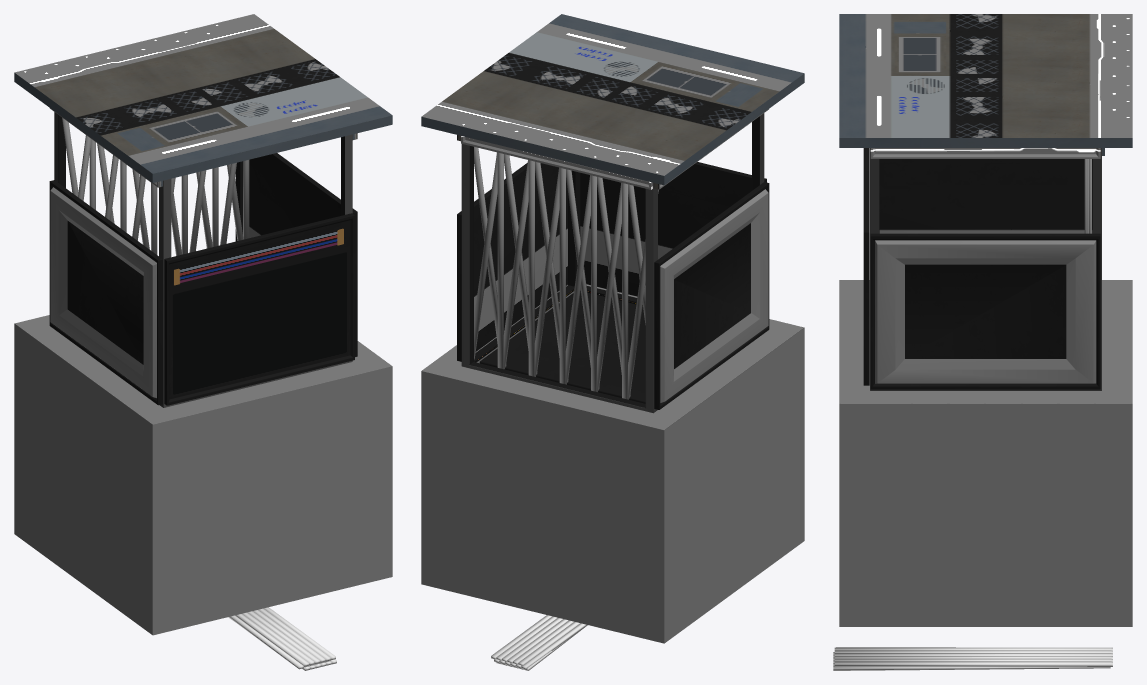
The model's file is floor tile elevator.fbx.
3 renders of one model, left to right at view 1: azimuth 30°, elevation 25°; view 2: azimuth 150°, elevation 25°; view 3: azimuth 270°, elevation 25°, orthographic. The views are drawn at different scales.
Visible parts, largest first — view 1: Plane, Plane.001, Cube.019, Cube.018, Cube.014, Plane.002, Cube.001; view 2: Plane, Plane.001, Cube.018, Cube.014, Plane.002, Cube.019, Plane.003, Cube.001, Cube.016; view 3: Plane, Cube.018, Plane.001, Cube.001, Cube.017, Plane.002, Cube.019, Cube.014.
Boxes of the visible parts, x1,y1,x2,y2 form: Plane: (14,315,392,635); Plane.001: (14,14,392,182); Cube.019: (164,213,354,405); Cube.018: (49,153,357,405); Cube.014: (62,117,249,255); Plane.002: (54,112,352,407); Cube.001: (228,607,336,670); Plane: (421,284,804,643); Plane.001: (421,14,804,185); Cube.018: (457,163,769,409); Cube.014: (474,147,658,399); Plane.002: (461,113,764,413); Cube.019: (580,162,766,296); Plane.003: (479,291,645,403); Cube.001: (491,615,587,670); Cube.016: (461,136,652,189); Plane: (839,280,1132,626); Cube.018: (870,159,1100,389); Plane.001: (839,14,1132,147); Cube.001: (833,647,1112,670); Cube.017: (870,148,1100,158); Plane.002: (870,148,1101,390); Cube.019: (863,148,869,385); Cube.014: (1084,159,1091,233).
Bounding box in the file's own units: 200 × 424 × 204.
